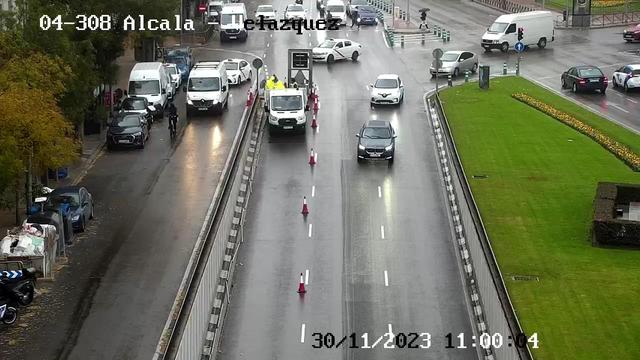bicycle: (167, 115, 178, 139)
car: (44, 186, 94, 232), (356, 120, 397, 163), (107, 112, 149, 149), (308, 38, 363, 64), (561, 64, 608, 93), (430, 51, 478, 77), (370, 74, 404, 107), (119, 97, 153, 128), (221, 58, 252, 86), (612, 64, 640, 92), (164, 56, 190, 81), (324, 0, 346, 26), (352, 6, 378, 26), (161, 63, 181, 89), (254, 4, 277, 23), (284, 4, 308, 22), (204, 1, 224, 21), (623, 23, 640, 42)
motorcycle: (0, 268, 37, 308)
truck: (481, 11, 554, 53), (183, 61, 229, 114), (124, 62, 167, 118), (264, 88, 309, 135), (220, 3, 247, 41)
